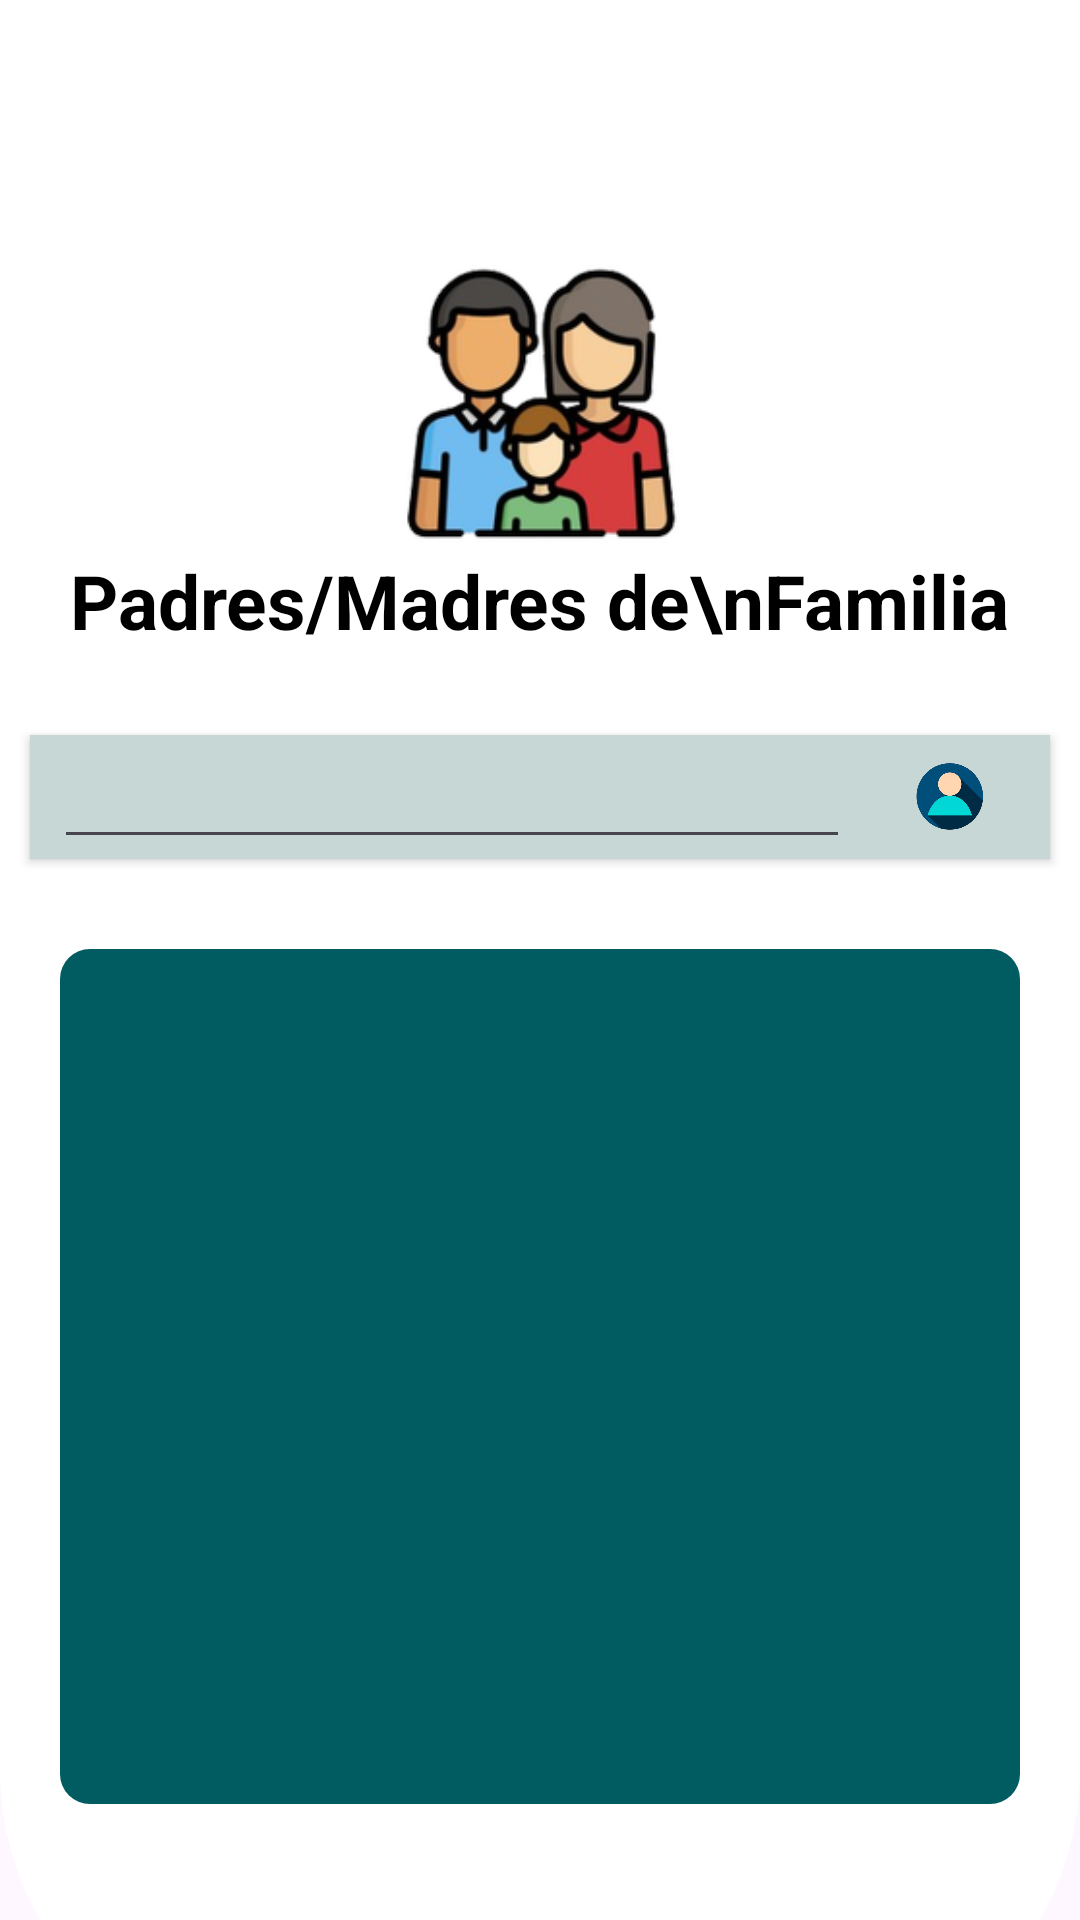

Screen size 1080px×1920px. Icon name, then its center in pixels as point (x, y):
usuario: point (949, 796)
